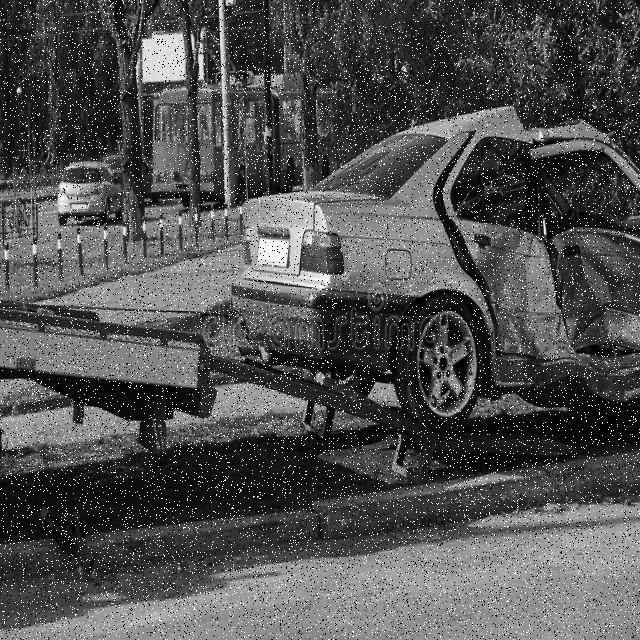Runningboard-Damage: (490, 357, 600, 401)
doorouter-dent: (464, 222, 556, 359), (559, 230, 640, 359)
roof-dent: (436, 97, 629, 171)
